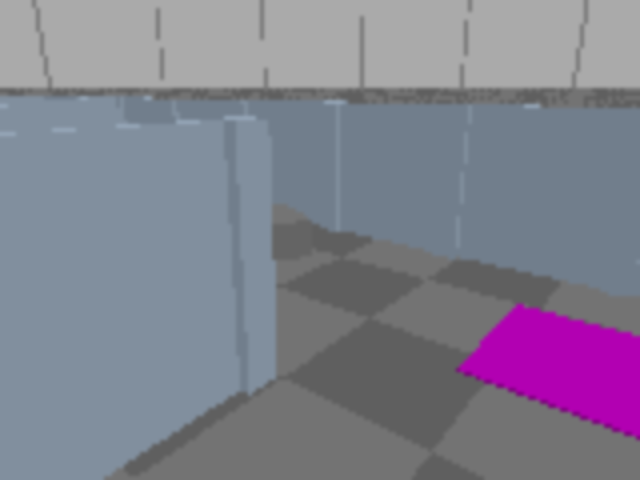goal_zone: (457, 304, 638, 461)
